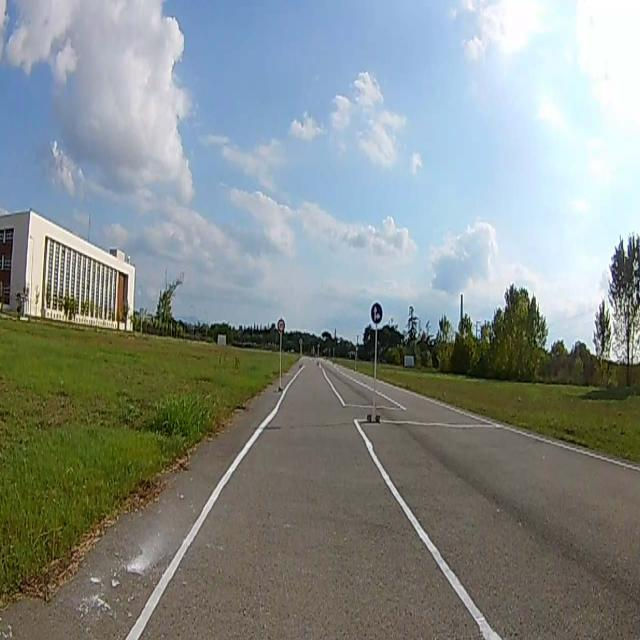ilerisag: (372, 304, 382, 324)
